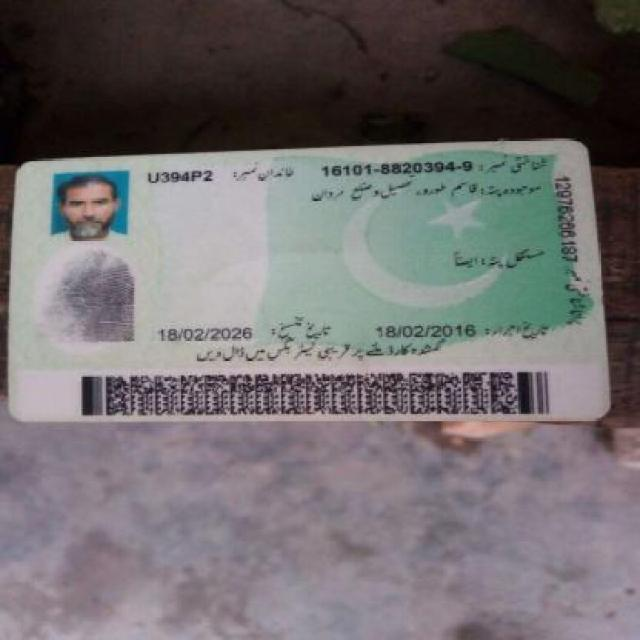Back: (9, 145, 617, 423)
